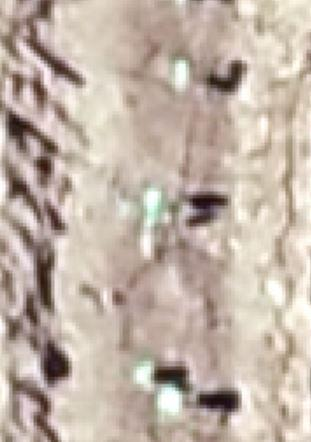cotton: (159, 387, 183, 413), (168, 58, 188, 85), (145, 193, 165, 219), (134, 363, 155, 385)
